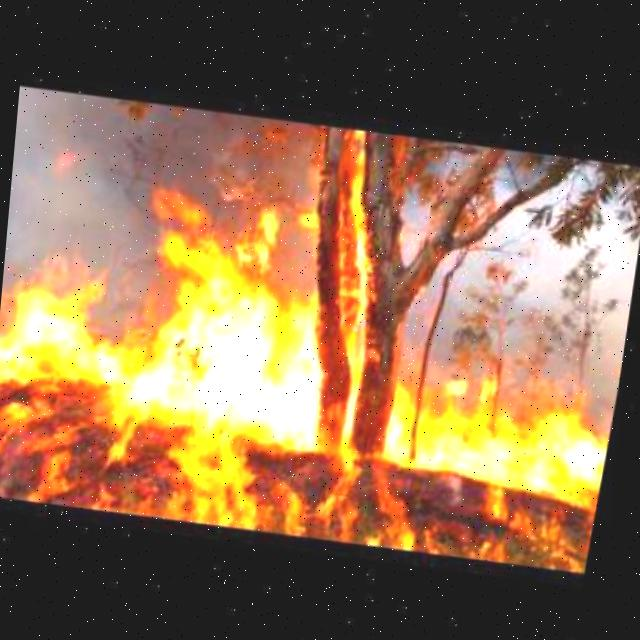fire: (0, 170, 312, 516), (385, 363, 601, 554)
